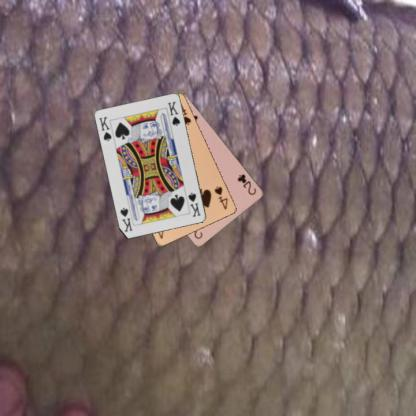2c: (235, 172, 258, 196)
4s: (212, 184, 229, 211)
Ks: (96, 114, 113, 143), (186, 190, 202, 218)
